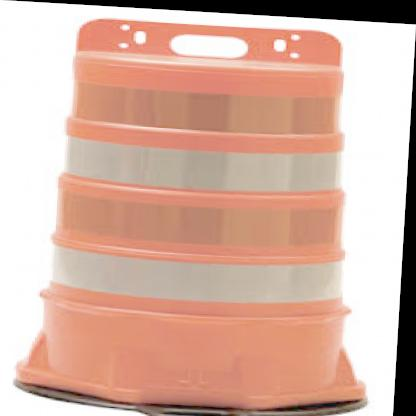obstacle: (23, 16, 363, 381)
